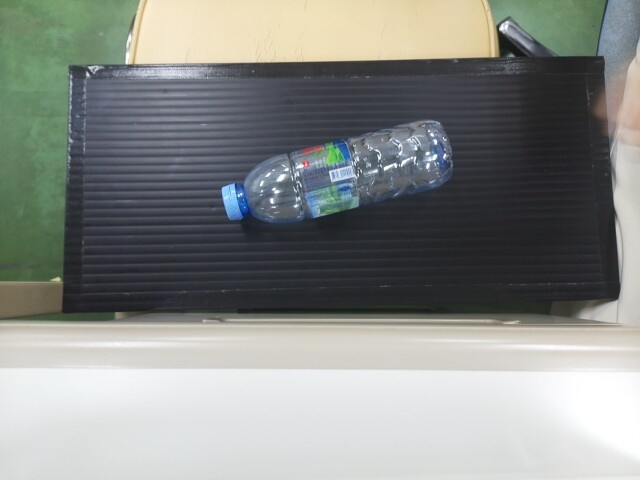plastic_bottle: (224, 124, 450, 216)
